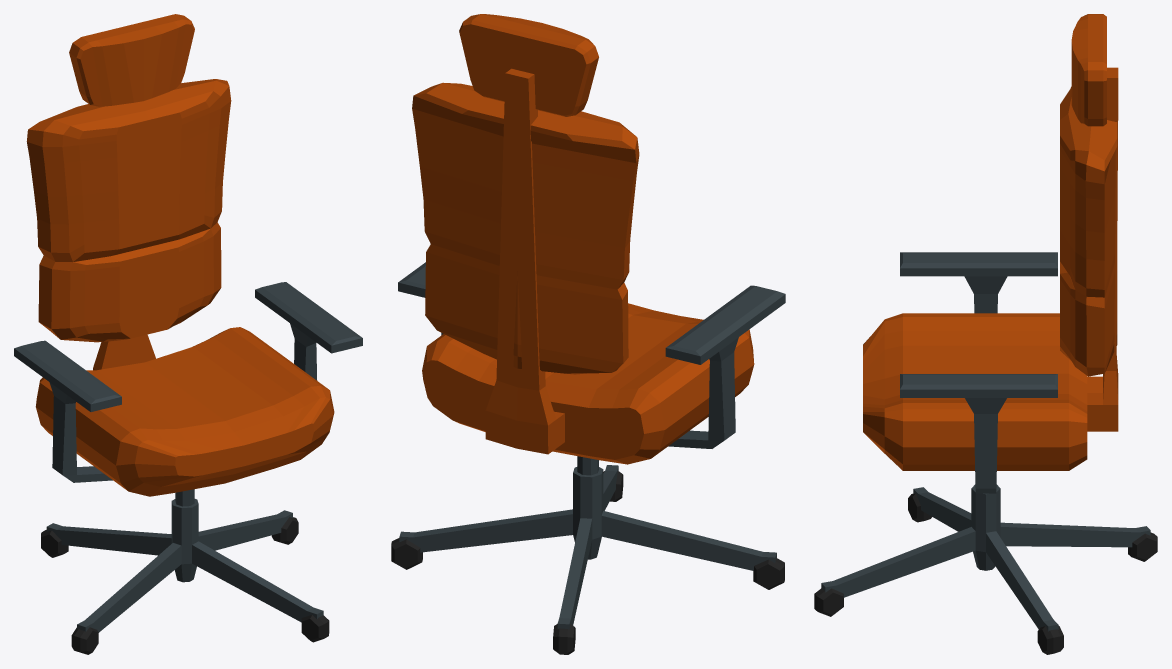
The model's file is ChairV4Orange.fbx.
3 views of the same model, side by side, from view 1: azimuth 30°, elevation 25°; view 2: azimuth 150°, elevation 25°; view 3: azimuth 270°, elevation 25° (orthographic). The views are drawn at different scales.
Parts seen in each view (by area): view 1: ChairV4Orange_Top, ChairV4Orange; view 2: ChairV4Orange_Top, ChairV4Orange; view 3: ChairV4Orange_Top, ChairV4Orange.
Part boxes in pixels (<box>): ChairV4Orange_Top: <box>14,14,362,496</box>; ChairV4Orange: <box>41,489,329,654</box>; ChairV4Orange_Top: <box>398,14,785,464</box>; ChairV4Orange: <box>391,456,784,654</box>; ChairV4Orange_Top: <box>863,14,1118,493</box>; ChairV4Orange: <box>814,484,1157,654</box>.
Size of the model in its own units: 82.82 by 146 by 82.82.
